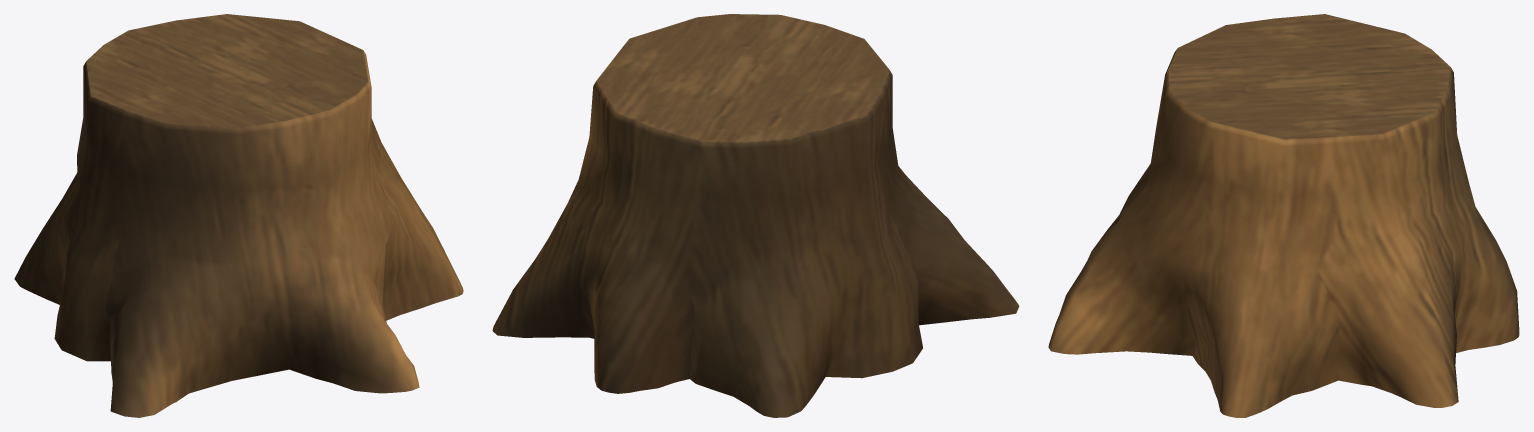
File: treestump.glb
The picture shows the model from 3 angles, left to right: view 1: azimuth 30°, elevation 25°; view 2: azimuth 150°, elevation 25°; view 3: azimuth 270°, elevation 25°; orthographic projection. The views are drawn at different scales.
Visible parts, largest first — view 1: treestump; view 2: treestump; view 3: treestump.
Part boxes in pixels (<box>): treestump: <box>14,14,463,417</box>; treestump: <box>492,14,1019,417</box>; treestump: <box>1048,14,1519,417</box>.
Size of what is drawn, in the model's own units: 1.02 by 0.6098 by 1.05.
1 material, 1 textured.
